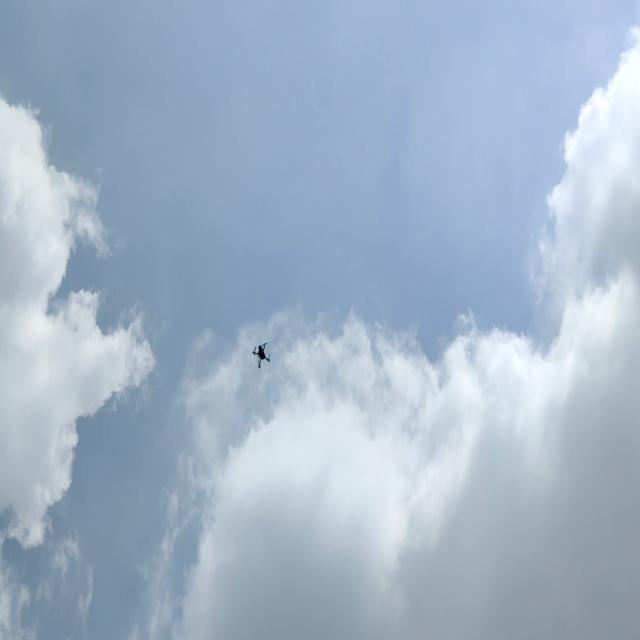drone: (246, 337, 279, 372)
